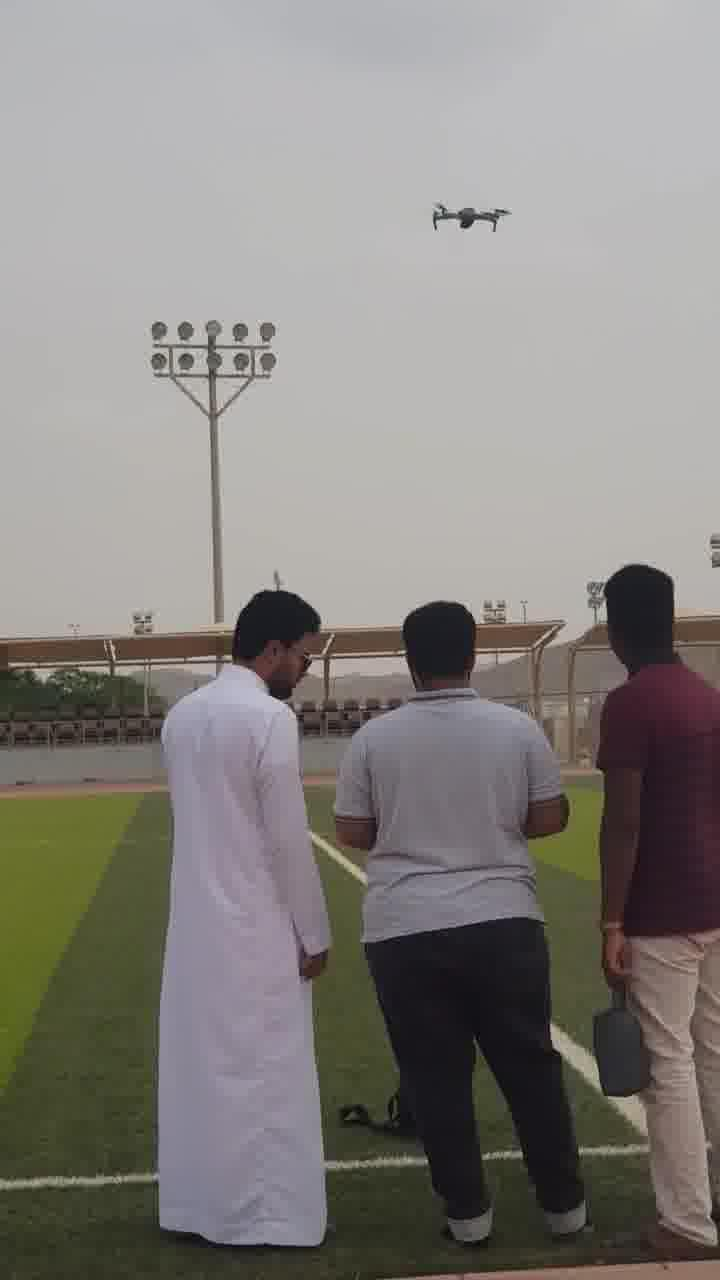drone: (420, 183, 515, 240)
